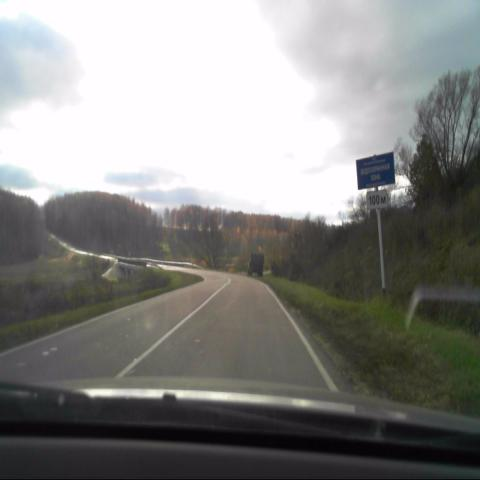8_1_1: (367, 191, 387, 208)
